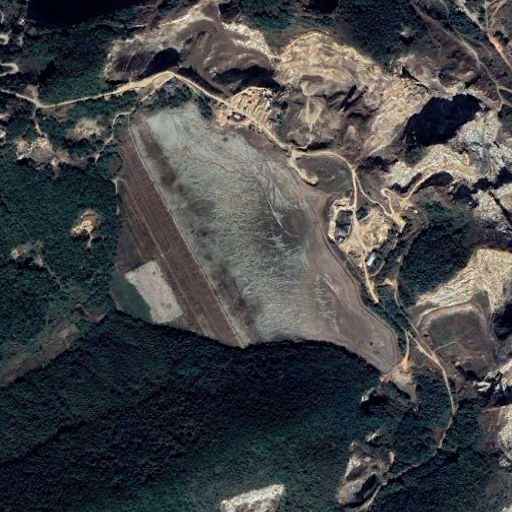tp: (109, 104, 399, 375)
